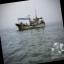fishing boat: (14, 10, 48, 34)
